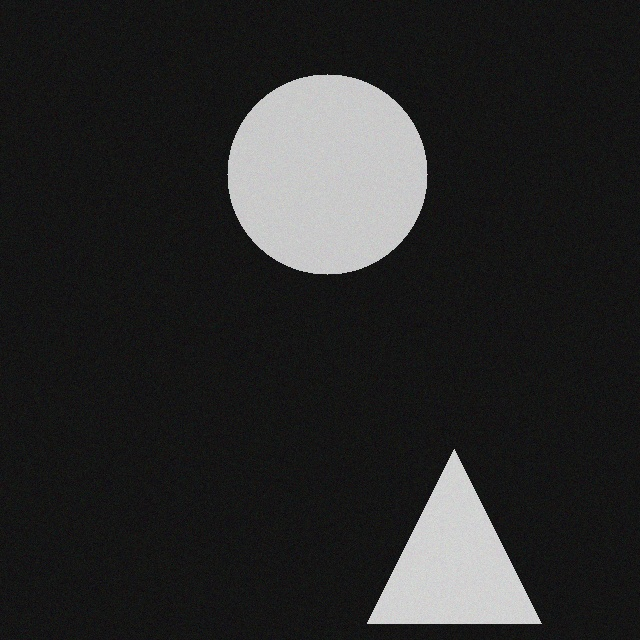circle: (228, 81, 428, 281)
triangle: (368, 456, 542, 630)
